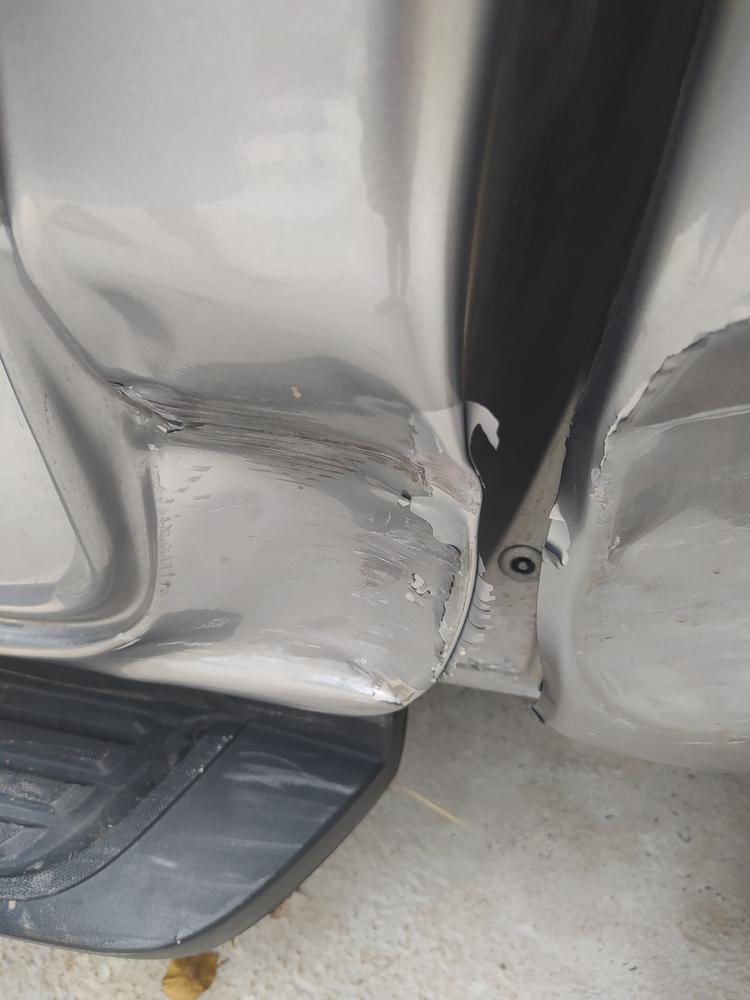dent: (84, 282, 474, 705), (575, 317, 750, 739)
